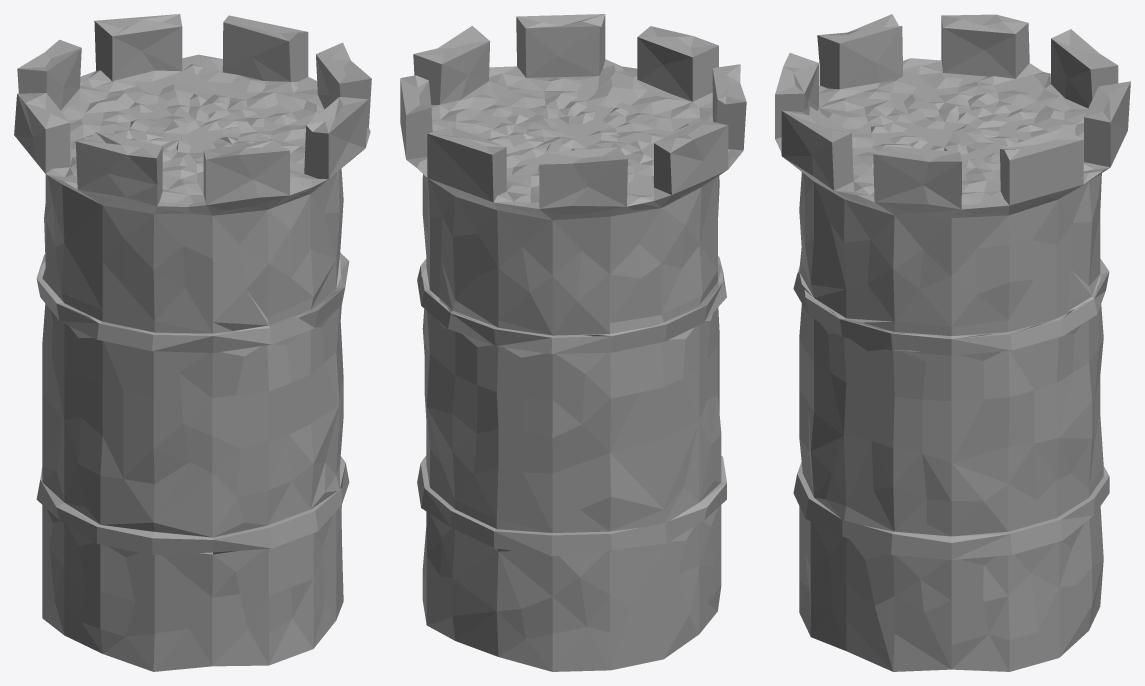
Rendered from rook.fbx.
3 views of the same model, side by side, from view 1: azimuth 30°, elevation 25°; view 2: azimuth 150°, elevation 25°; view 3: azimuth 270°, elevation 25° (orthographic).
Parts seen in each view (by area): view 1: rook; view 2: rook; view 3: rook.
Part boxes in pixels (left/top/right/bottom): rook: left=14, top=14, right=371, bottom=671; rook: left=400, top=14, right=746, bottom=671; rook: left=775, top=14, right=1130, bottom=671.
Bounding box in the file's own units: 144 × 234 × 144.
